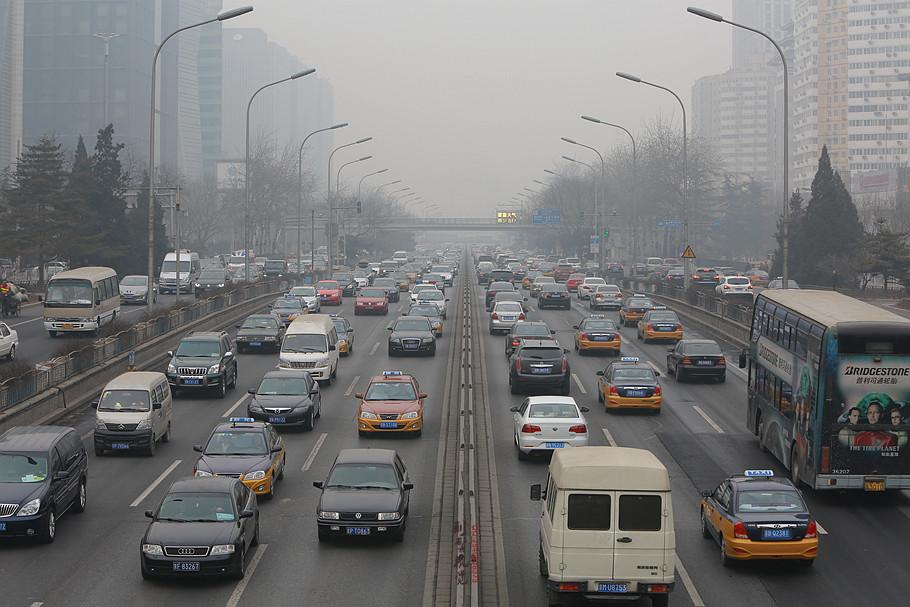bus: (738, 289, 910, 490), (38, 267, 121, 338), (157, 248, 202, 295), (225, 249, 256, 282)
car: (530, 446, 677, 607), (139, 477, 259, 580), (700, 471, 821, 568), (1, 425, 89, 543), (313, 446, 414, 542), (192, 417, 287, 498), (91, 372, 173, 456), (510, 396, 591, 461), (166, 330, 238, 398), (355, 371, 428, 438), (274, 314, 340, 386), (247, 370, 323, 431), (595, 357, 663, 413), (508, 337, 571, 396), (665, 339, 727, 382), (387, 316, 438, 357), (236, 316, 287, 356), (573, 314, 622, 355), (503, 321, 557, 356), (400, 301, 446, 338), (636, 306, 683, 342), (317, 314, 354, 356), (486, 301, 530, 335), (617, 293, 657, 327), (267, 293, 309, 325), (117, 275, 158, 306), (411, 290, 450, 321), (195, 267, 231, 299), (714, 276, 753, 303), (407, 279, 444, 307), (354, 286, 389, 315), (285, 286, 321, 314), (763, 277, 802, 302), (536, 283, 572, 310), (588, 284, 625, 310), (489, 291, 529, 315), (484, 281, 519, 307), (483, 269, 515, 297), (311, 279, 344, 306), (370, 278, 401, 303), (691, 268, 722, 292), (1, 320, 19, 361), (577, 277, 608, 300), (262, 259, 289, 283), (230, 267, 260, 288), (331, 273, 358, 296), (352, 260, 376, 285), (743, 268, 771, 289), (530, 276, 556, 297), (428, 265, 454, 286), (385, 271, 411, 292), (712, 266, 740, 285), (663, 270, 691, 289), (419, 273, 446, 292), (565, 273, 588, 293), (522, 269, 545, 289), (476, 265, 498, 285), (553, 264, 576, 283), (287, 263, 312, 280), (643, 257, 664, 276), (348, 270, 369, 289), (399, 265, 418, 285), (646, 271, 669, 287), (536, 262, 555, 280), (661, 258, 681, 275), (604, 263, 625, 279), (307, 258, 328, 274), (669, 267, 690, 282), (406, 263, 425, 279), (655, 264, 674, 279), (439, 261, 458, 276), (511, 266, 530, 280), (392, 250, 409, 265), (415, 256, 433, 270), (476, 261, 495, 274), (565, 257, 581, 272), (367, 263, 383, 278), (379, 262, 395, 277), (503, 259, 520, 273), (505, 263, 523, 275), (555, 259, 571, 272), (478, 255, 494, 268), (526, 257, 540, 271), (547, 255, 562, 268), (630, 263, 643, 277), (498, 255, 511, 269), (531, 259, 546, 270), (413, 260, 428, 271), (495, 253, 507, 266), (536, 254, 548, 266), (517, 249, 529, 261), (584, 263, 599, 272)
